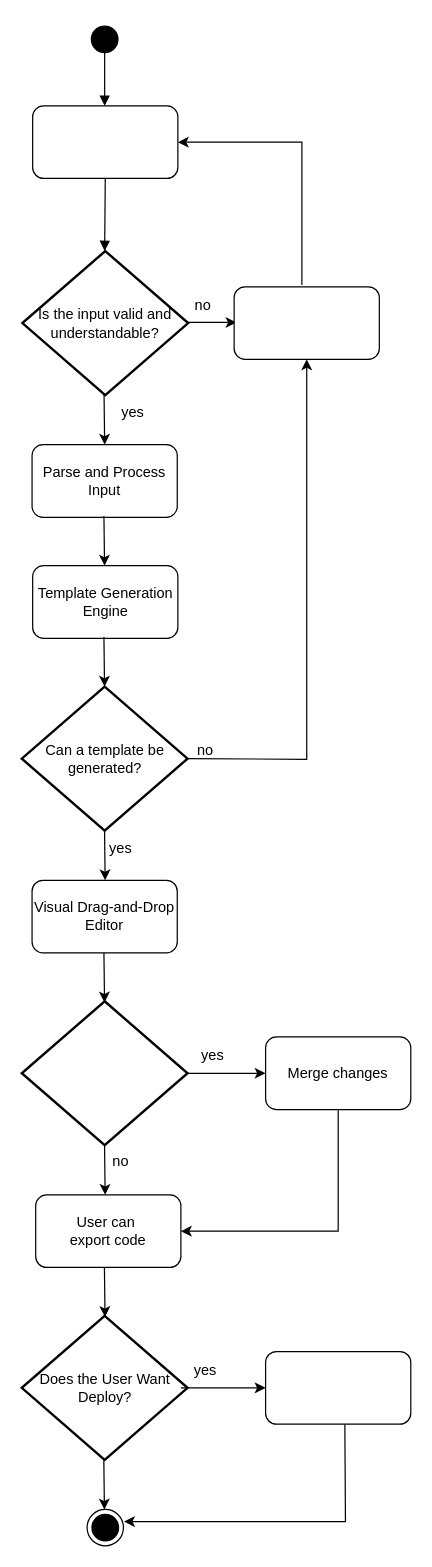
The diagram is 432 pixels wide and 1567 high, and some of its shapes have lost their labels. Here are the shapes that lost their labels. From the top down, the centre of each, then its label:
At (104,141): "User Inputs Natural Language Requirements".
At (306,322): "Ask the user to re-input".
At (104,1072): "Is another user editing the template? (Collab)".
At (337,1387): "Deploy to Hosting".
